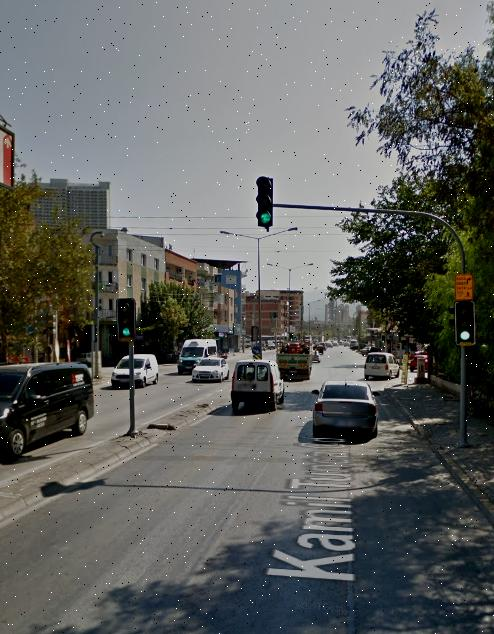greenlight: (456, 303, 476, 342), (117, 298, 134, 339), (258, 177, 272, 224)
